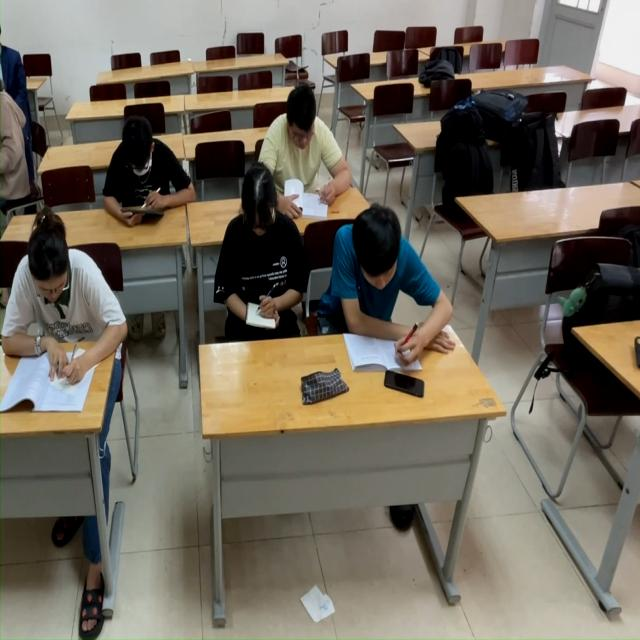read: (1, 219, 127, 426), (327, 197, 455, 377), (217, 172, 306, 334), (106, 102, 200, 221), (274, 75, 348, 221)
